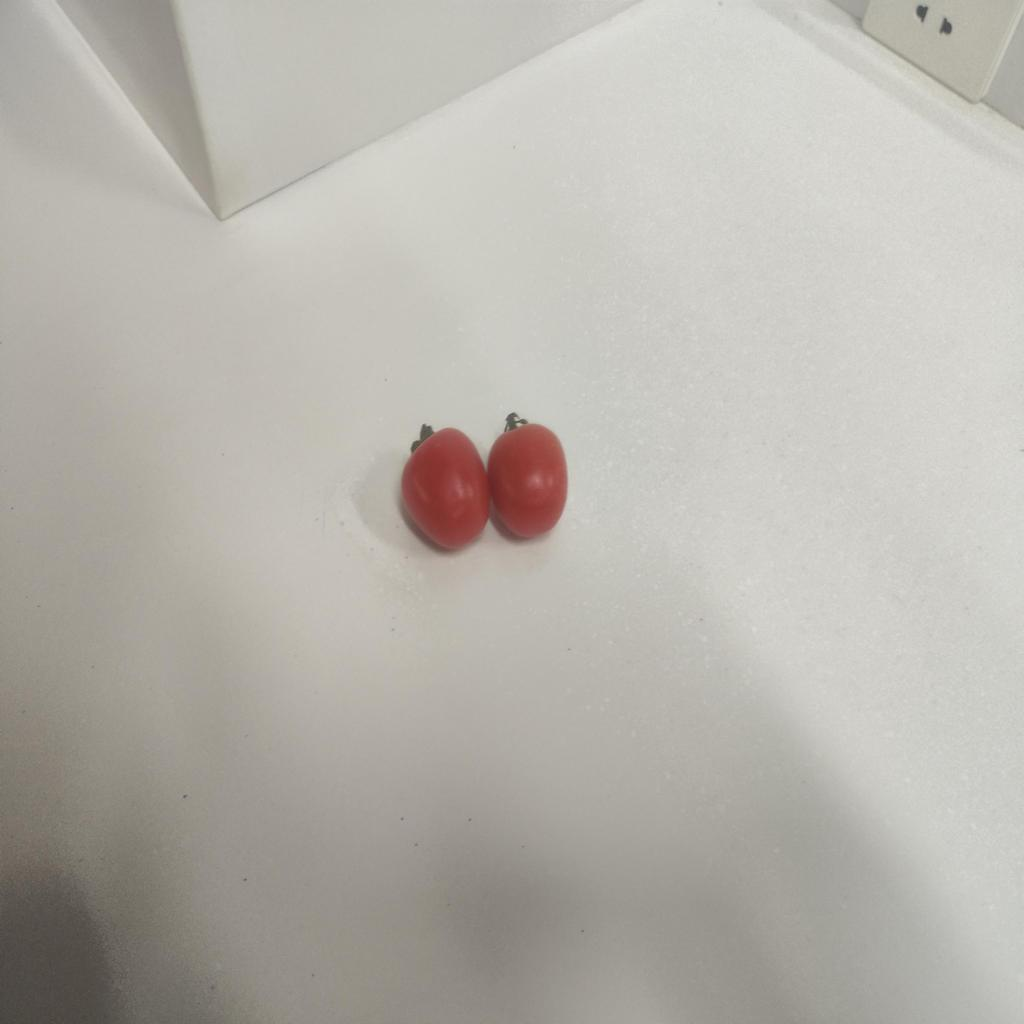tomato: (400, 422, 496, 557), (482, 409, 579, 542)
